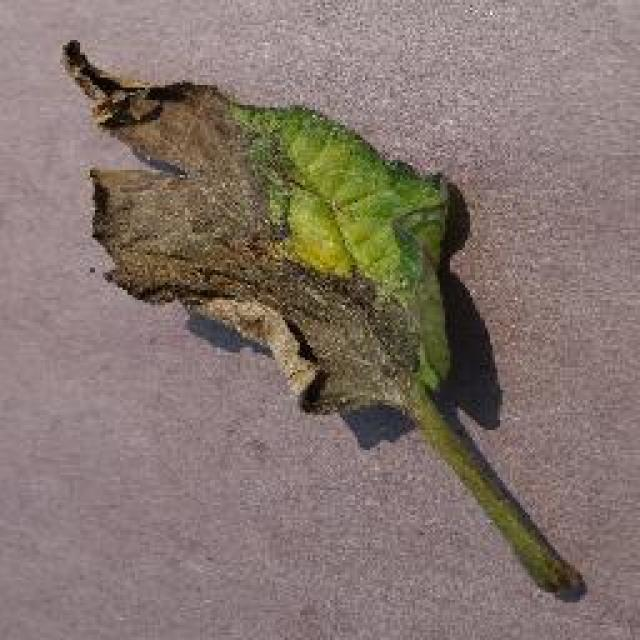Tomato___Late_blight: (60, 31, 585, 602)
